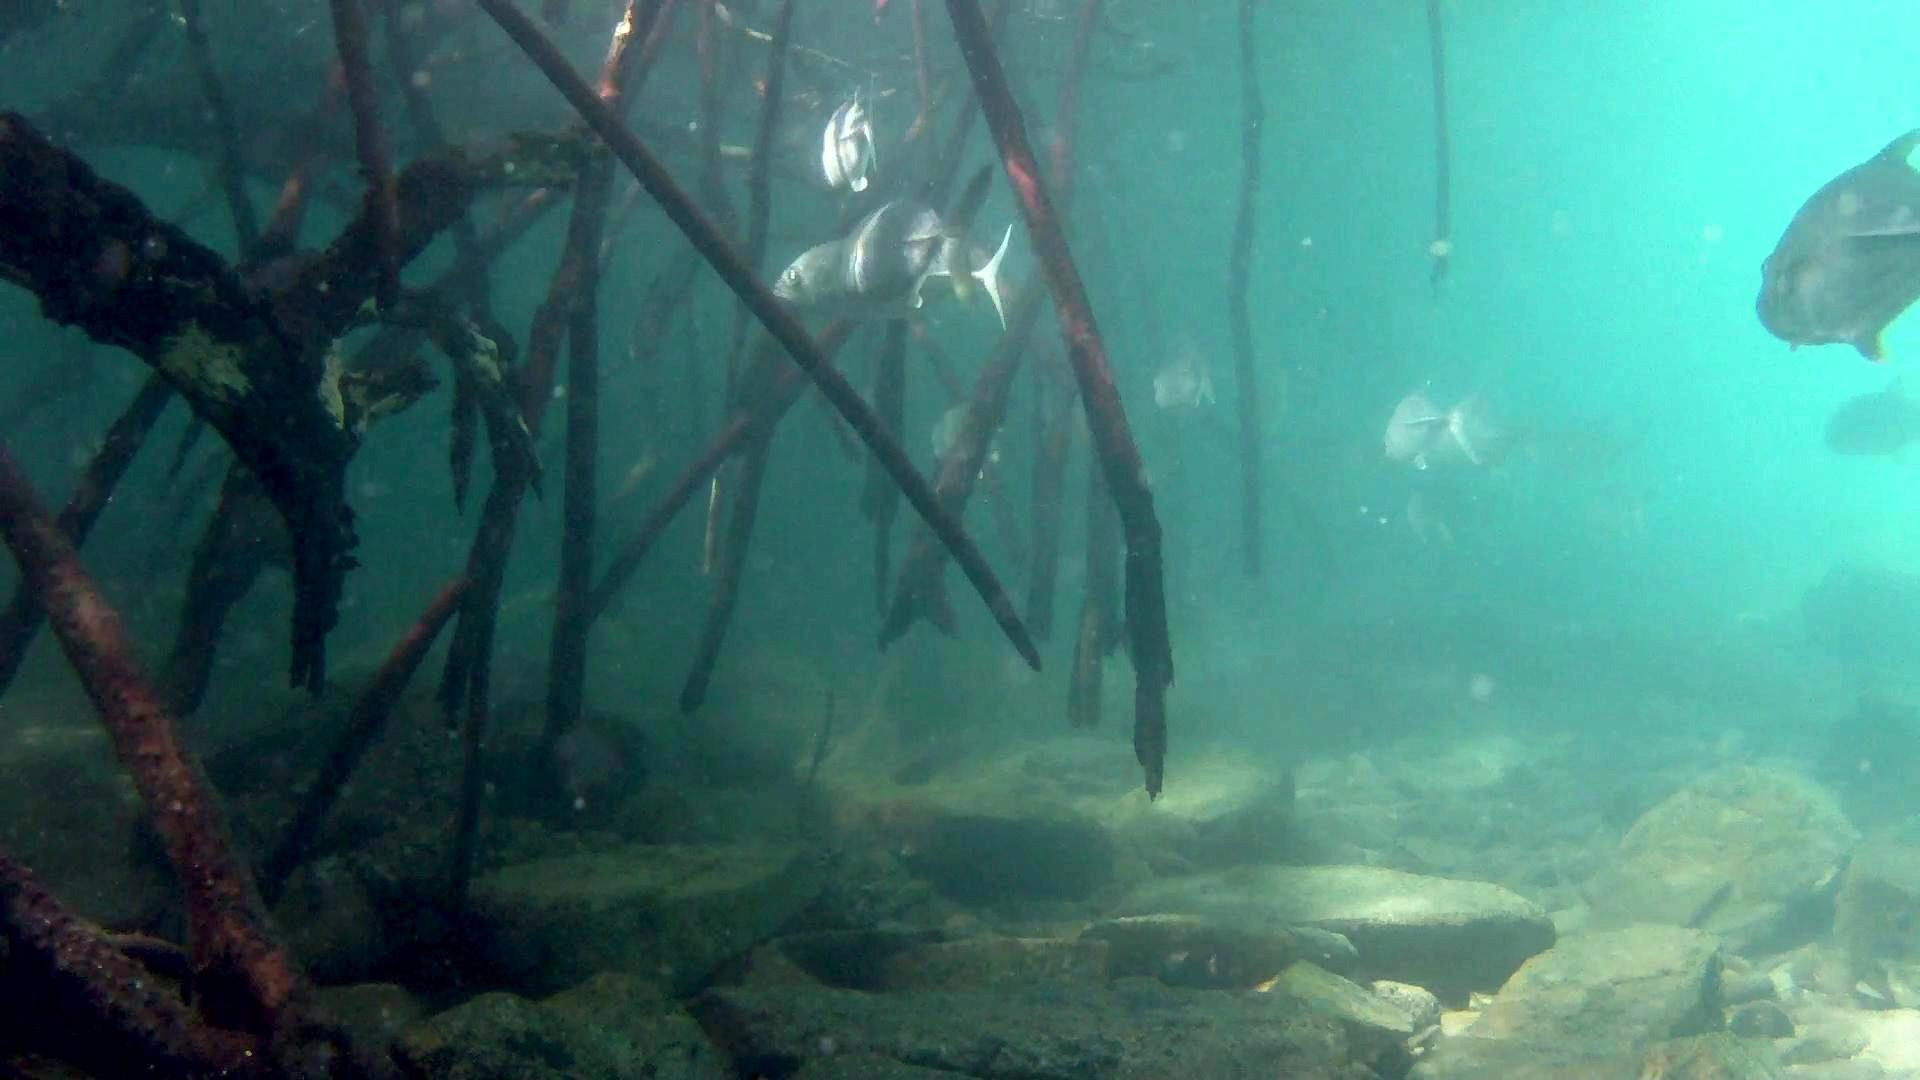caranx: (1753, 120, 1920, 369), (843, 141, 1006, 315)
